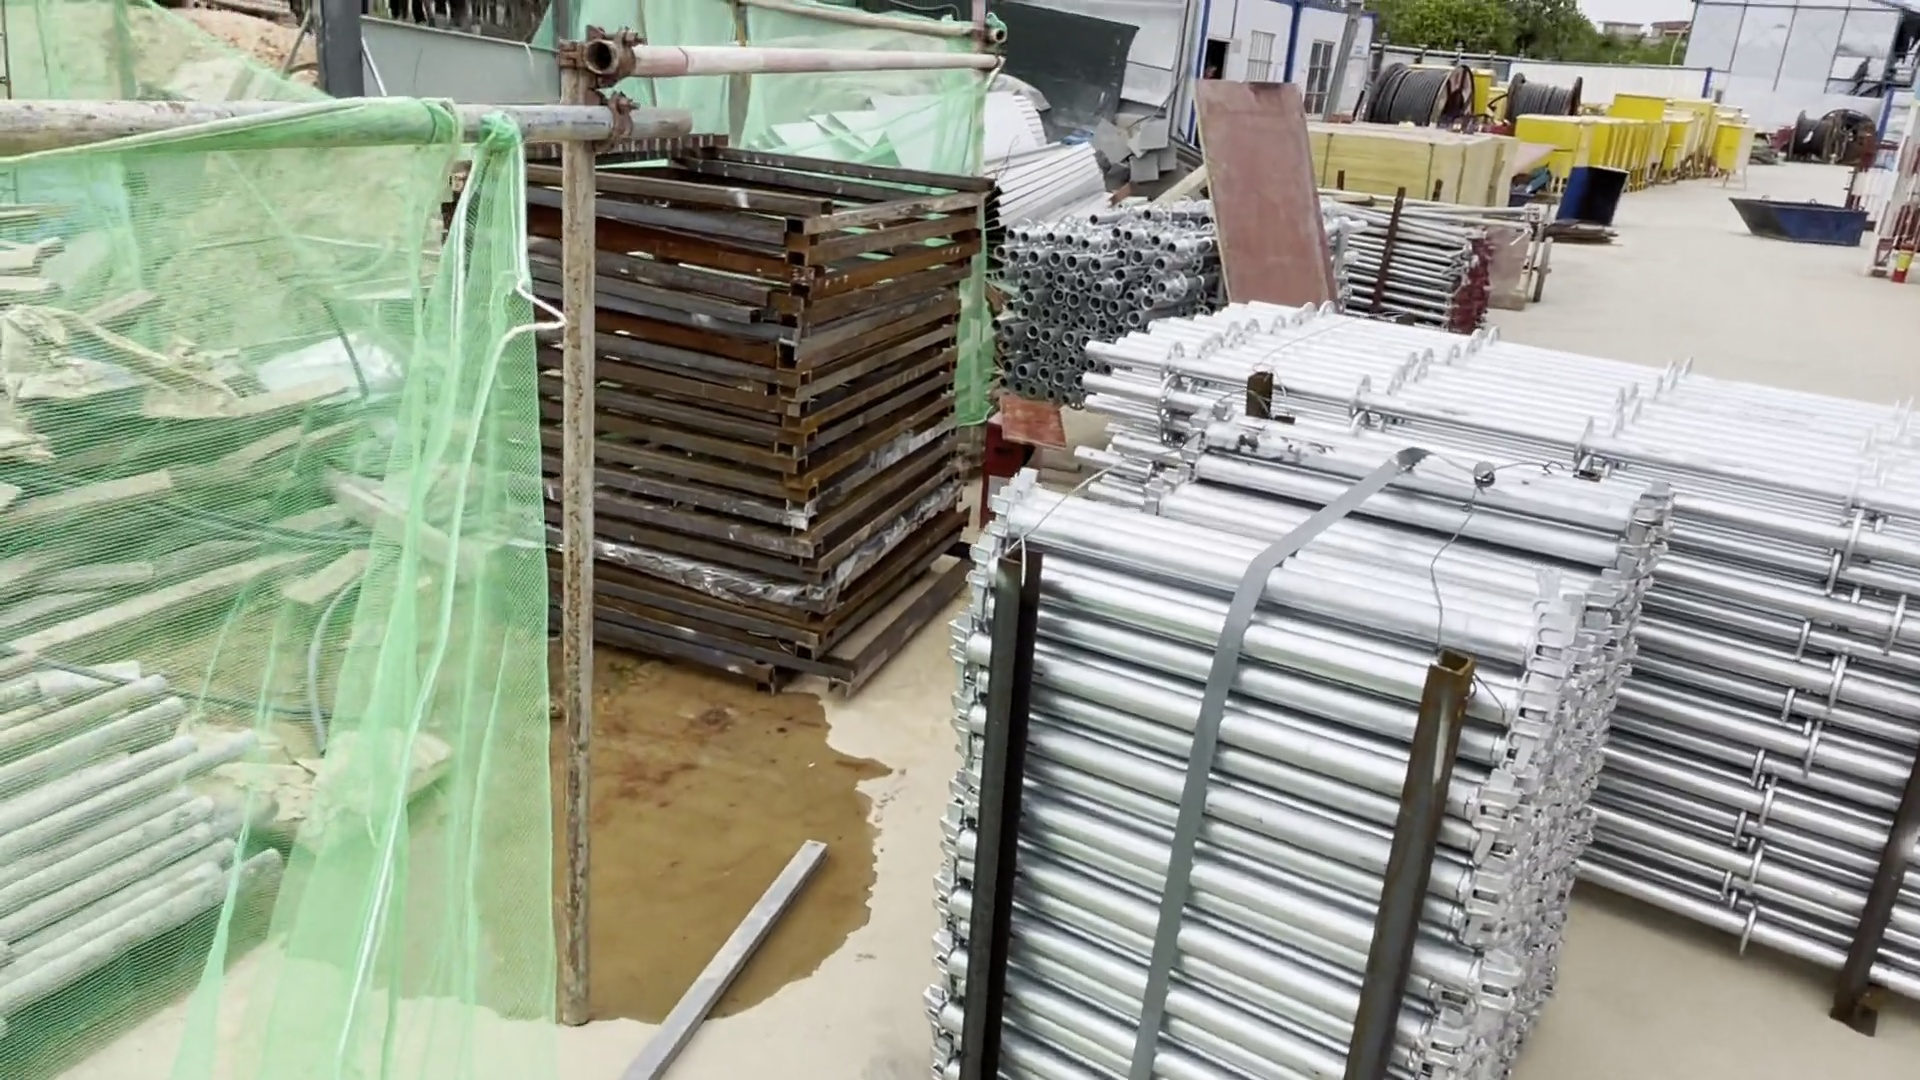ebox: (1524, 115, 1593, 178), (1726, 127, 1756, 186)
scaffold: (1077, 276, 1920, 1006), (982, 448, 1607, 1080), (996, 186, 1267, 371), (1346, 187, 1481, 330)
